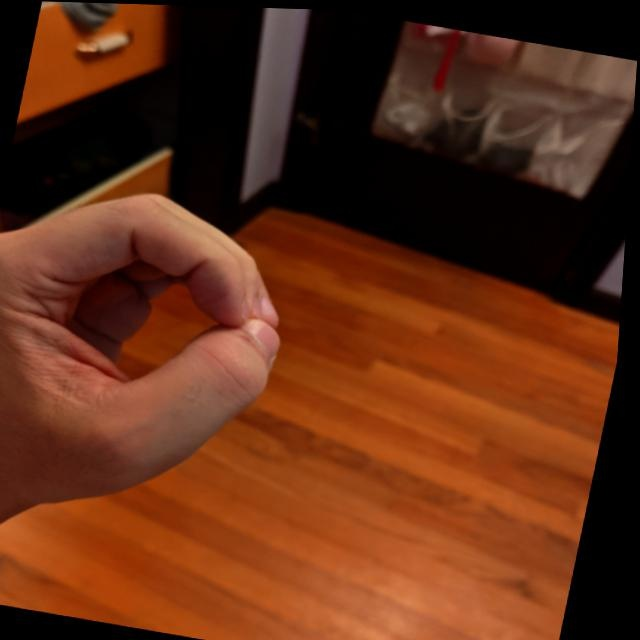O: (0, 161, 324, 552)
